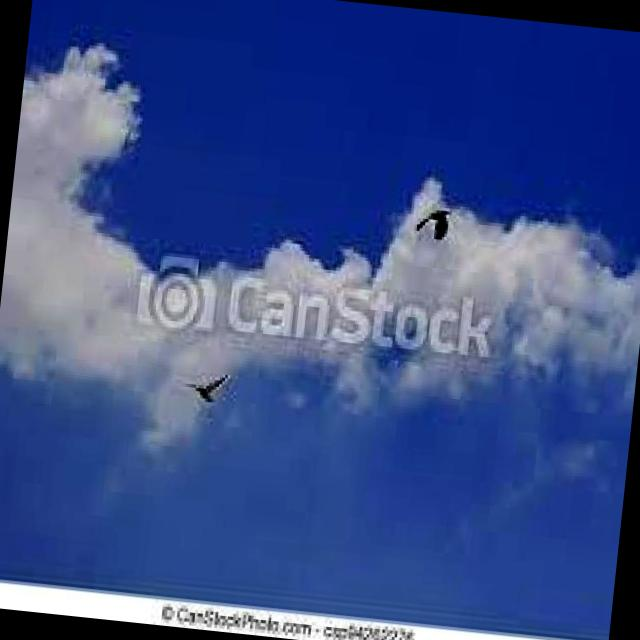bird: (412, 198, 454, 245), (189, 365, 227, 411)
